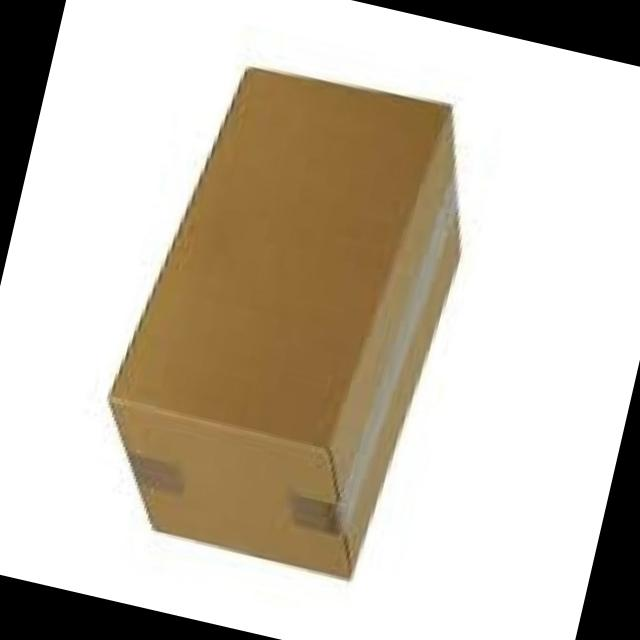cardboard paper: (113, 70, 460, 579)
